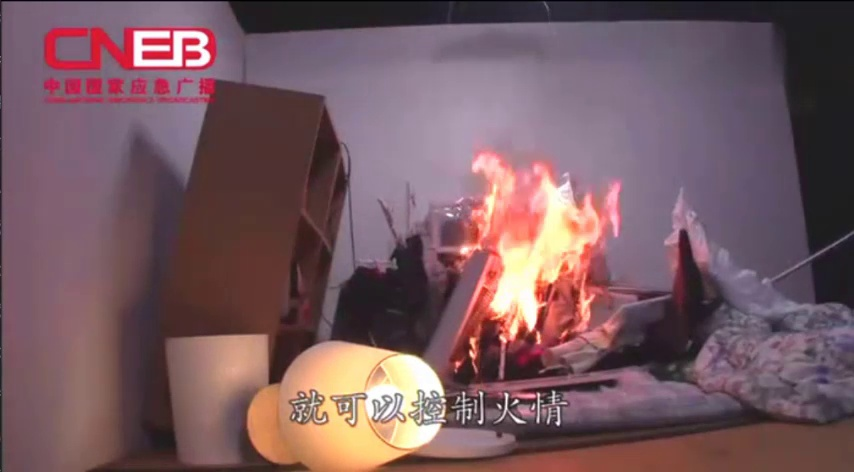fire: (437, 138, 626, 382)
